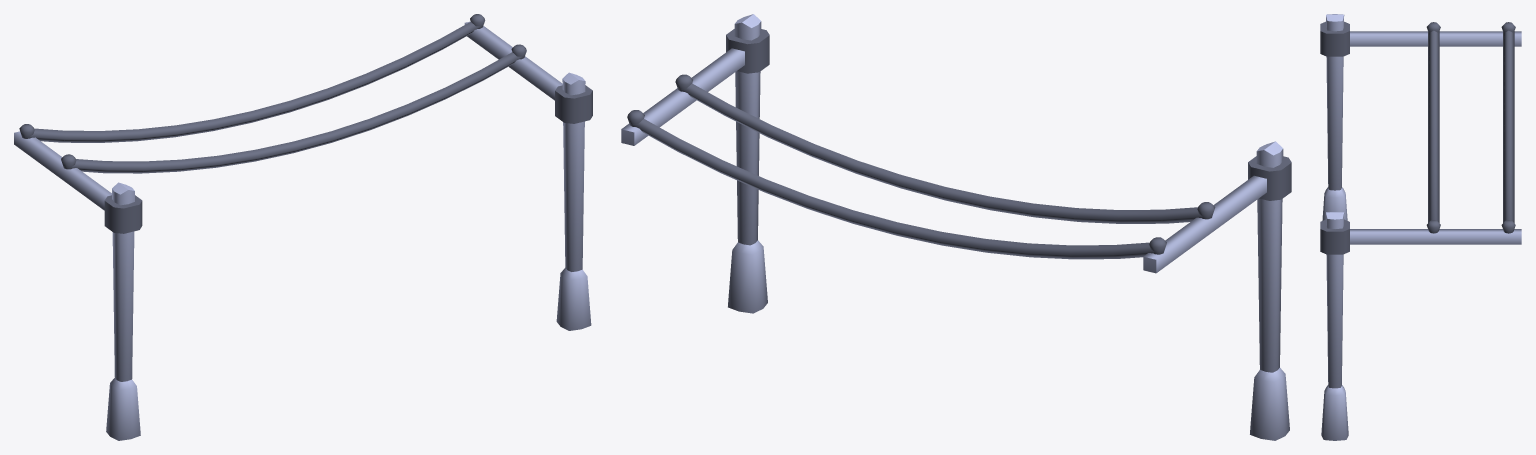
File: electricity-side-wide.glb
3 renders of one model, left to right at view 1: azimuth 30°, elevation 25°; view 2: azimuth 150°, elevation 25°; view 3: azimuth 270°, elevation 25°, orthographic. The views are drawn at different scales.
Parts seen in each view (by area): view 1: electricity-side-wide; view 2: electricity-side-wide; view 3: electricity-side-wide.
Boxes of the visible parts, bbox=[...] form: electricity-side-wide: bbox=[14, 14, 592, 440]; electricity-side-wide: bbox=[621, 14, 1291, 440]; electricity-side-wide: bbox=[1320, 14, 1521, 440].
Size of the model in its own units: 1.06 by 0.525 by 0.4306.
Materials: 1 (1 with a texture image).
